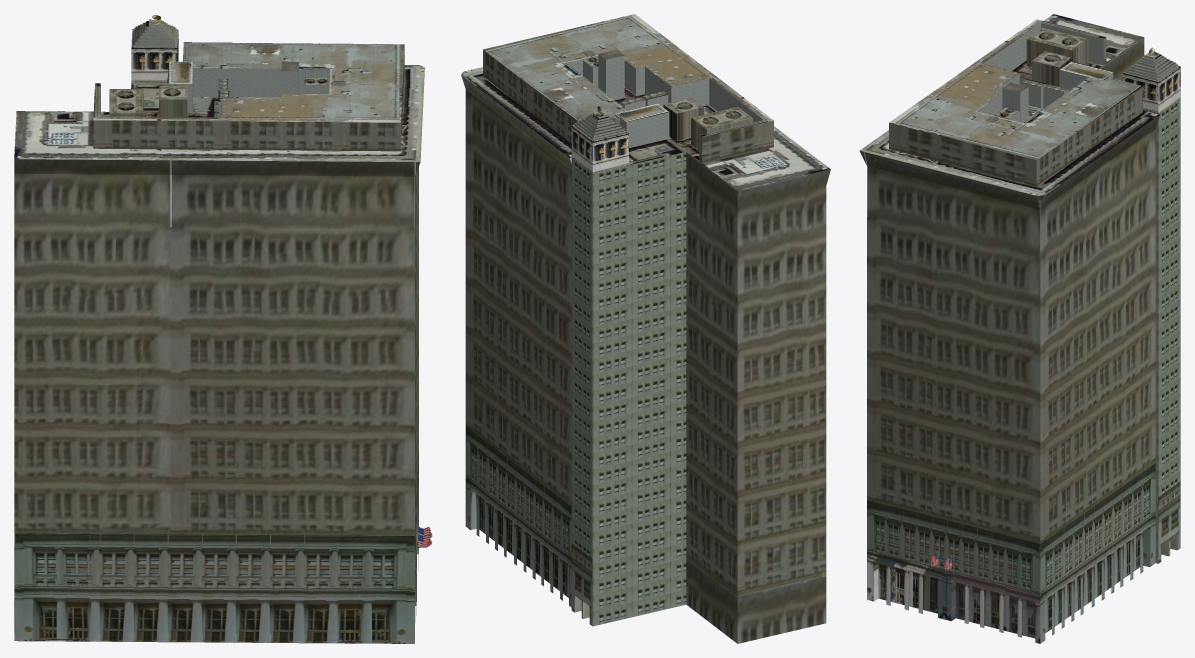
Rendered from 195broadway.fbx.
3 renders of one model, left to right at view 1: azimuth 30°, elevation 25°; view 2: azimuth 150°, elevation 25°; view 3: azimuth 270°, elevation 25°, orthographic. The views are drawn at different scales.
Parts seen in each view (by area): view 1: Component_1_1; view 2: Component_1_1; view 3: Component_1_1.
Boxes of the visible parts, x1=… form: Component_1_1: x1=14, y1=15, x2=432, y2=643; Component_1_1: x1=461, y1=14, x2=830, y2=643; Component_1_1: x1=859, y1=14, x2=1180, y2=643.
Size of the model in its own units: 103 by 133 by 76.79.
